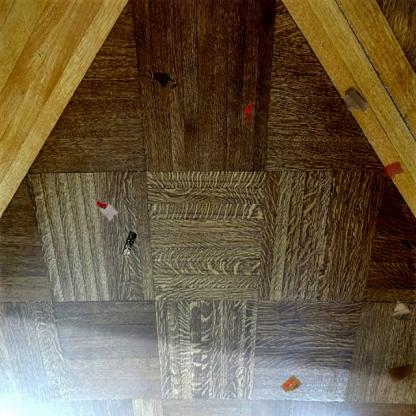dirty: (342, 85, 372, 115), (386, 362, 415, 386), (390, 298, 415, 324), (95, 199, 119, 222), (278, 373, 303, 394), (121, 228, 136, 258), (243, 100, 254, 122)
liquid: (152, 70, 178, 90), (381, 161, 404, 180)
